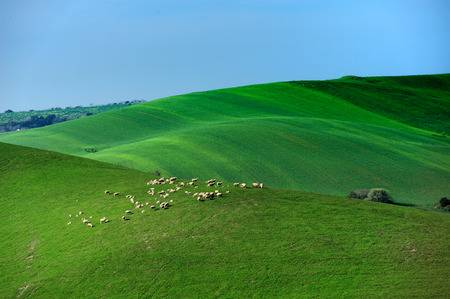sheep: (98, 215, 107, 224), (231, 180, 241, 188), (251, 180, 259, 189), (111, 189, 120, 197), (122, 207, 132, 214), (189, 176, 200, 182), (215, 191, 223, 198), (119, 214, 127, 221), (163, 201, 171, 208), (258, 180, 264, 189), (148, 204, 157, 210), (168, 175, 177, 181), (216, 180, 224, 186), (86, 221, 92, 227), (104, 188, 109, 193)
